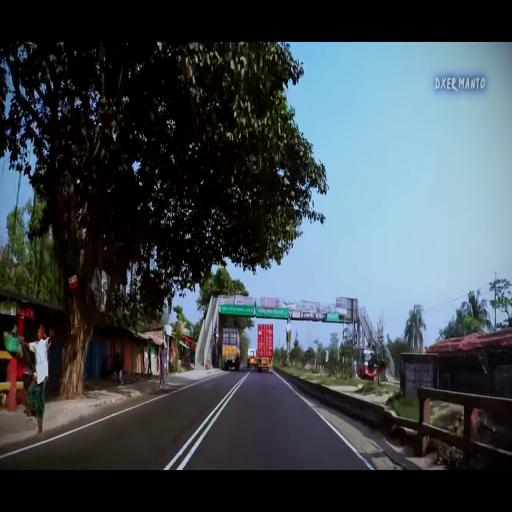bus: (356, 345, 377, 380)
truck: (221, 328, 242, 374), (257, 322, 275, 374), (246, 348, 258, 371)
